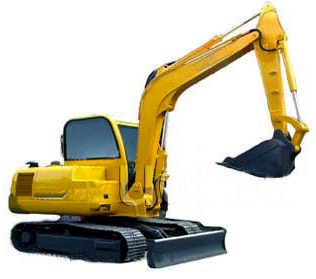backhoe: (7, 1, 315, 267)
